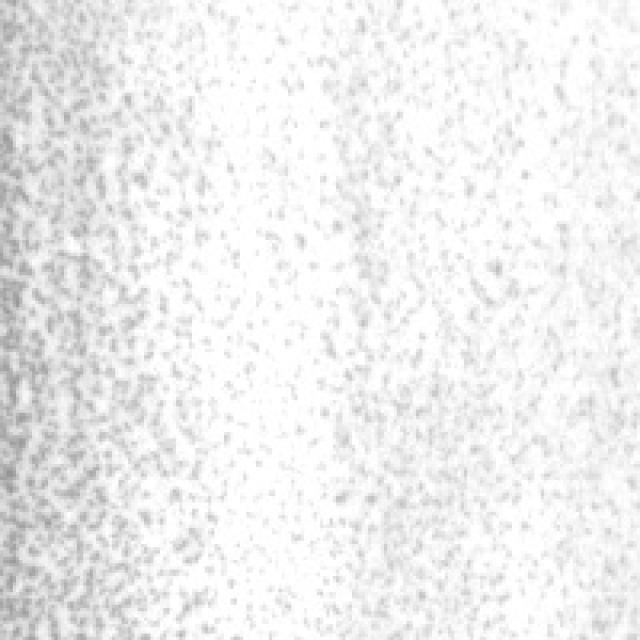pitted_surface: (275, 0, 634, 637), (0, 0, 230, 637)
